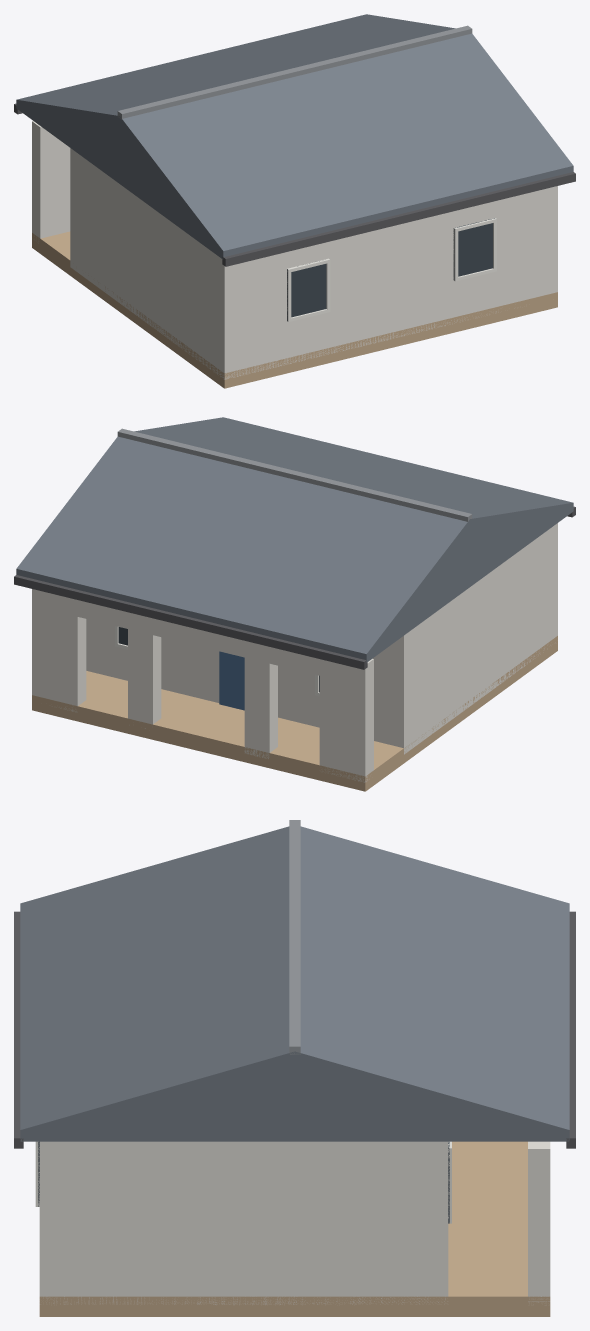
Rendered from mission.glb.
3 views of the same model, one above another, from view 1: azimuth 30°, elevation 25°; view 2: azimuth 150°, elevation 25°; view 3: azimuth 270°, elevation 25° (orthographic). The views are drawn at different scales.
Parts seen in each view (by area): view 1: mission; view 2: mission; view 3: mission.
Boxes of the visible parts, x1=… form: mission: x1=14, y1=14, x2=575, y2=388; mission: x1=14, y1=417, x2=575, y2=791; mission: x1=14, y1=820, x2=575, y2=1316.
Bounding box in the file's own units: 8.4 × 4.76 × 8.8.
